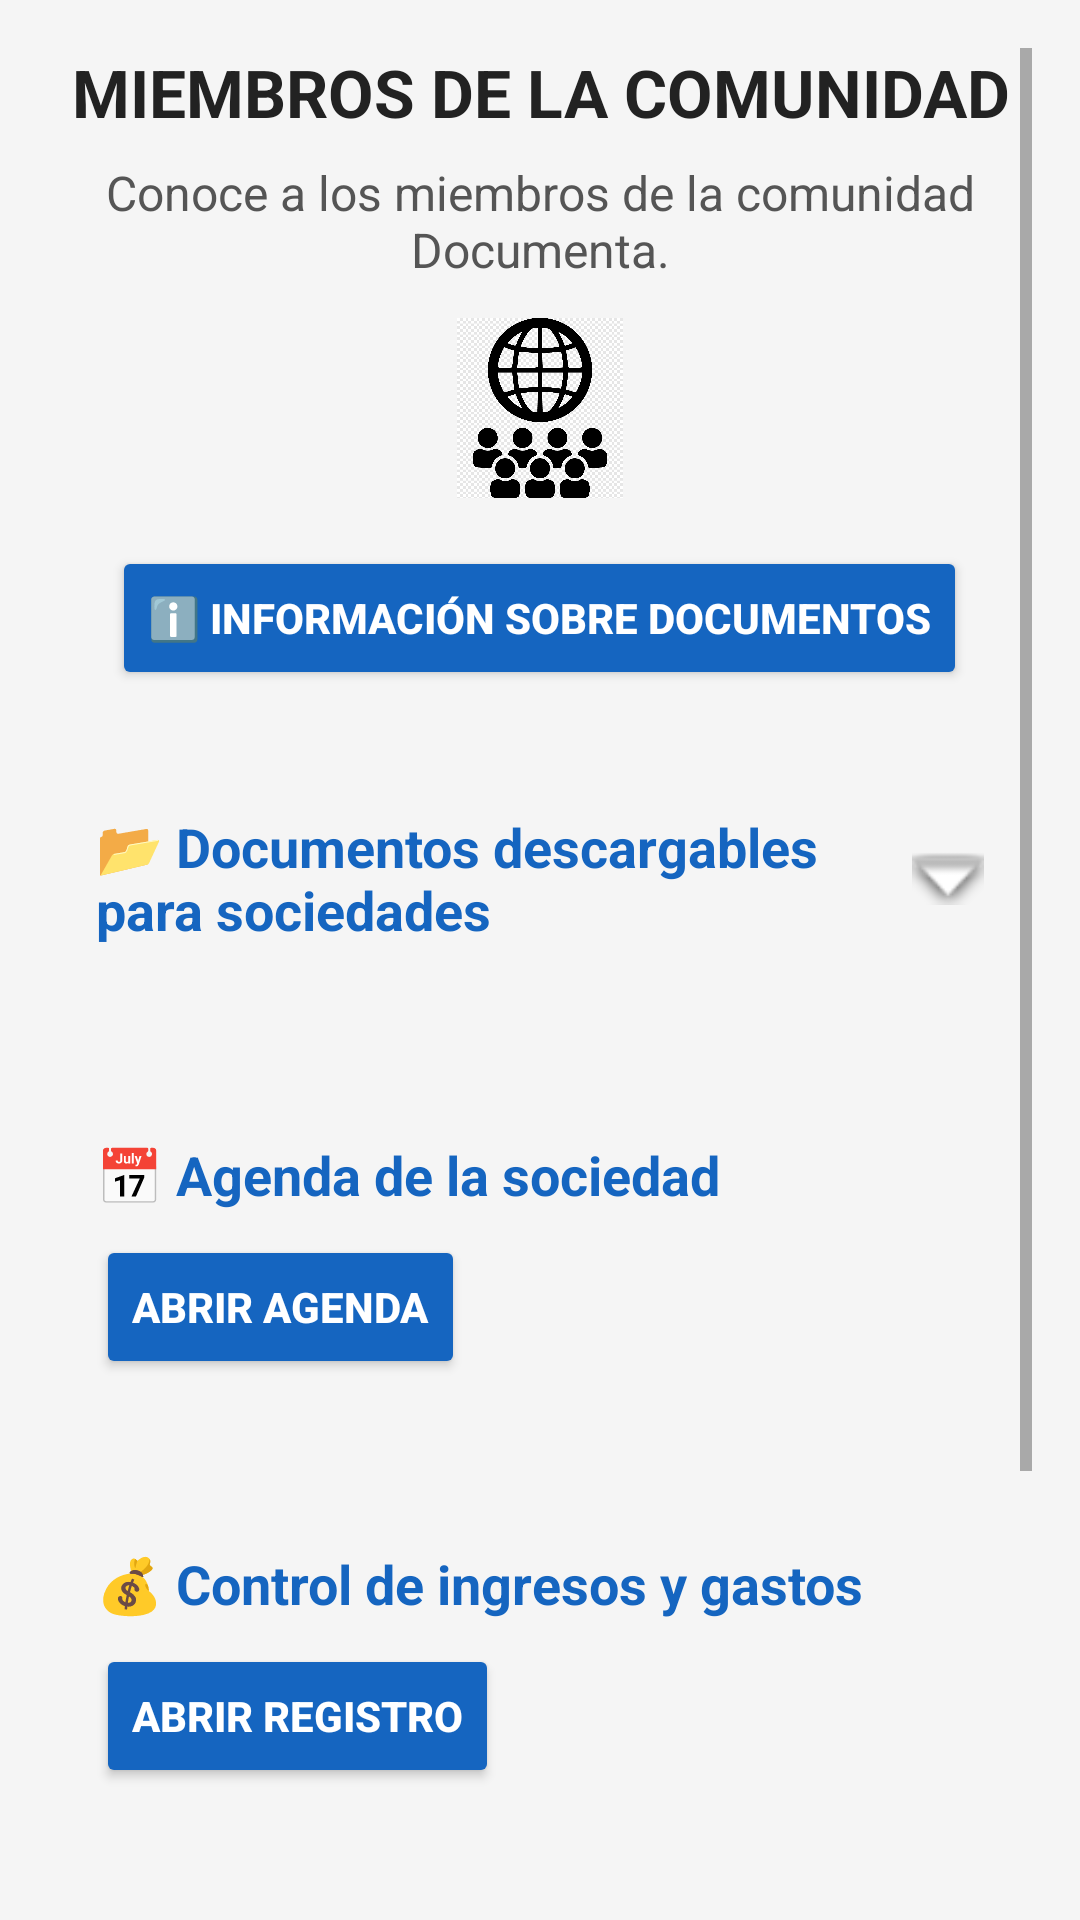

Named icons in this screenshot (1080x1920) and their bounding boxes, (x1, y1, x2, y2):
Expandir lista: (912, 854, 984, 903)
Ver usuarios: (457, 318, 623, 498)
